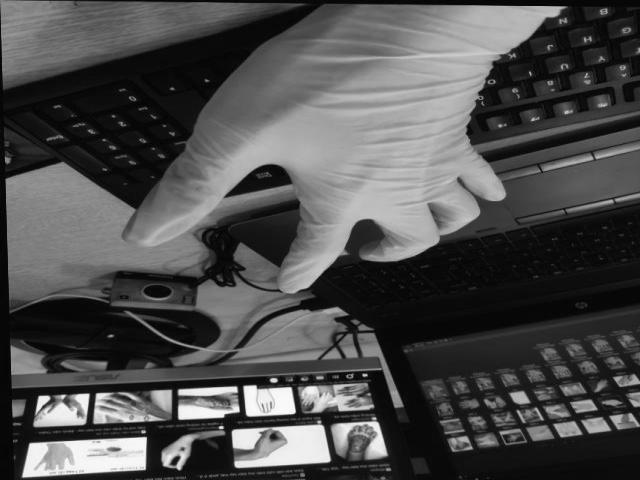gloved: (129, 2, 507, 288)
